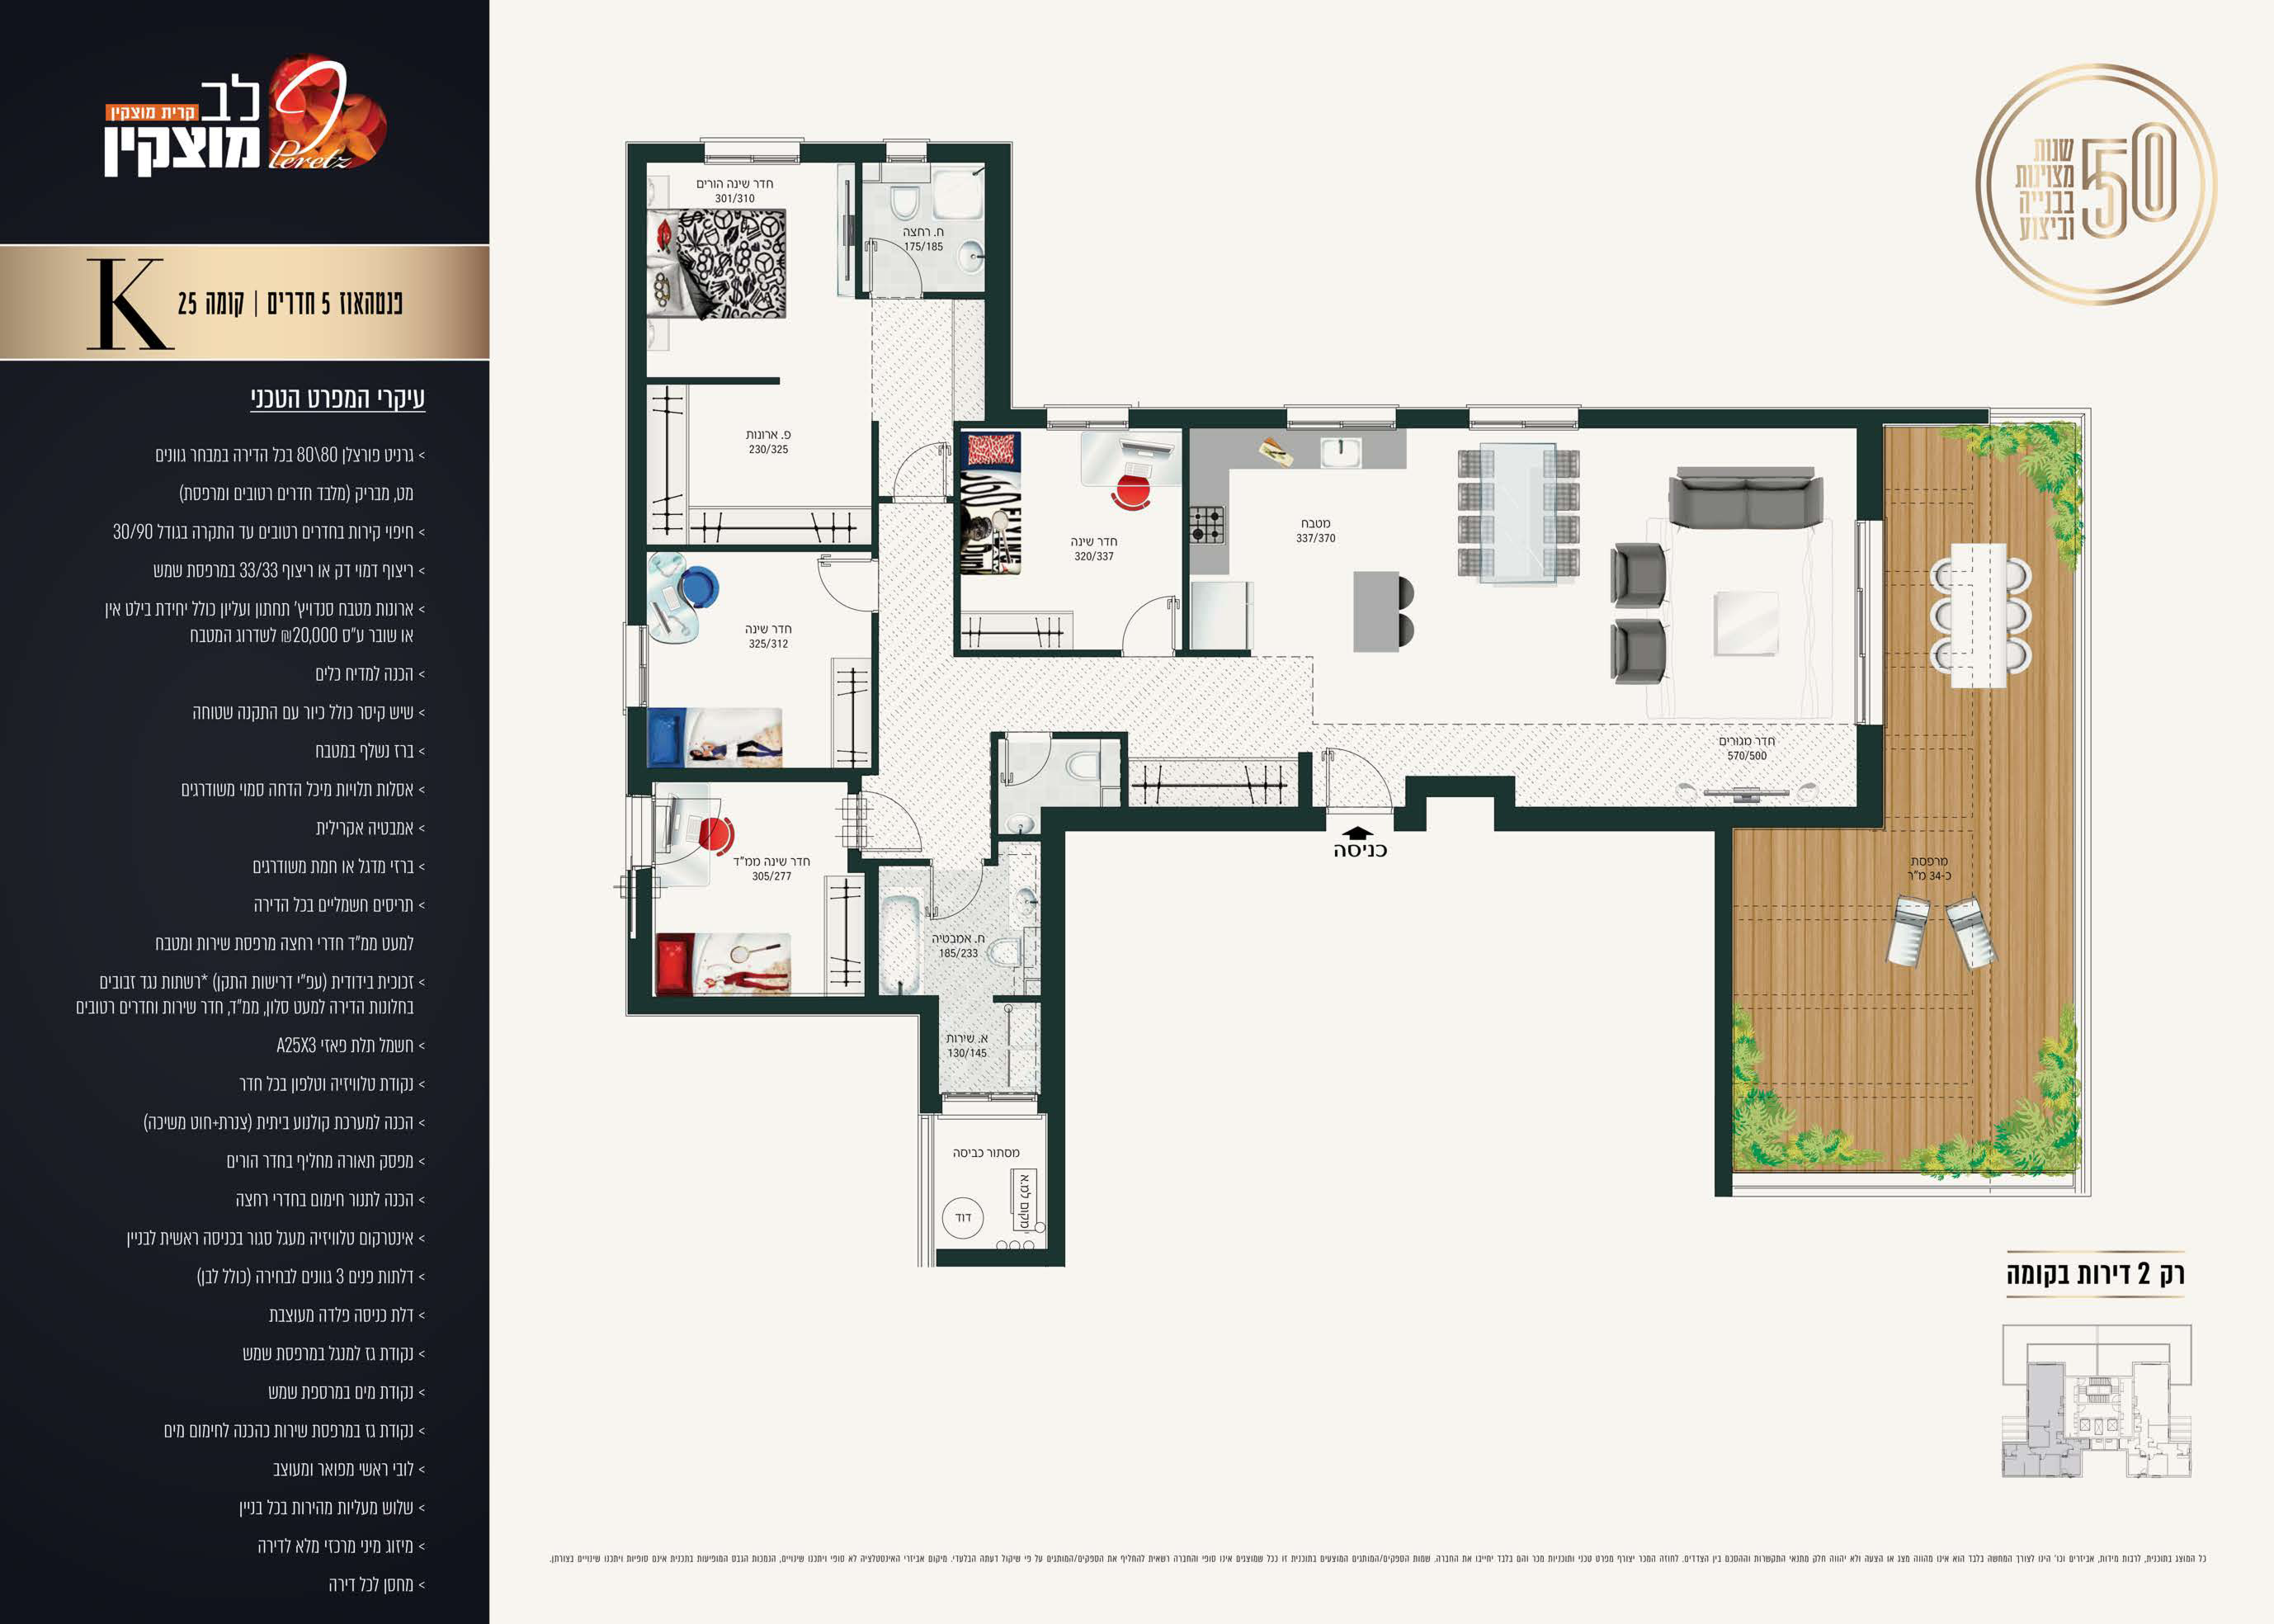door: (801, 552, 868, 620), (872, 786, 937, 854), (1316, 743, 1392, 794), (923, 874, 991, 924), (889, 432, 952, 487), (866, 234, 928, 285), (1000, 749, 1054, 787)
wall: (1042, 807, 1327, 909), (986, 142, 1042, 429), (1582, 402, 1989, 427), (627, 142, 647, 612), (1499, 807, 1879, 830), (1397, 772, 1529, 831), (1040, 912, 1070, 1109), (654, 997, 940, 1016), (650, 770, 859, 782), (952, 503, 963, 656), (645, 378, 782, 385), (873, 422, 879, 562)
window: (1734, 1171, 2074, 1204), (2074, 575, 2100, 1004), (664, 791, 731, 866), (1858, 520, 1882, 717), (1116, 584, 1179, 645), (706, 141, 798, 169), (1474, 406, 1576, 429), (1053, 406, 1125, 432), (631, 794, 652, 866), (631, 622, 647, 703), (1290, 406, 1341, 429), (887, 139, 928, 162)
